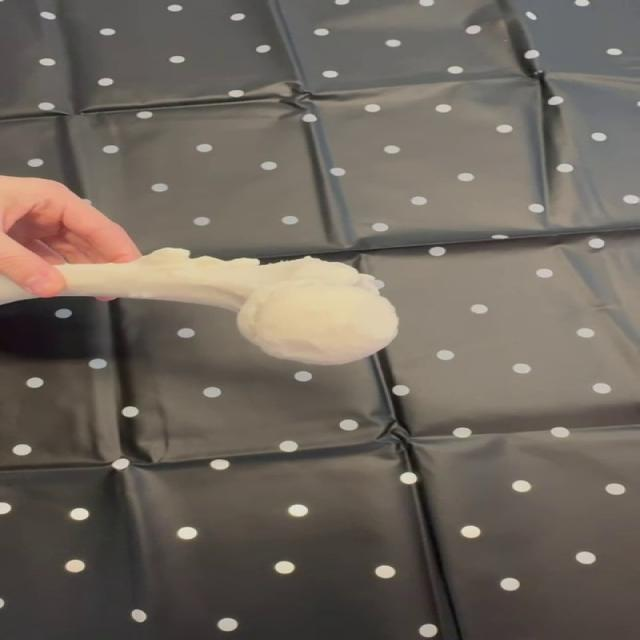bones: (56, 249, 398, 365)
